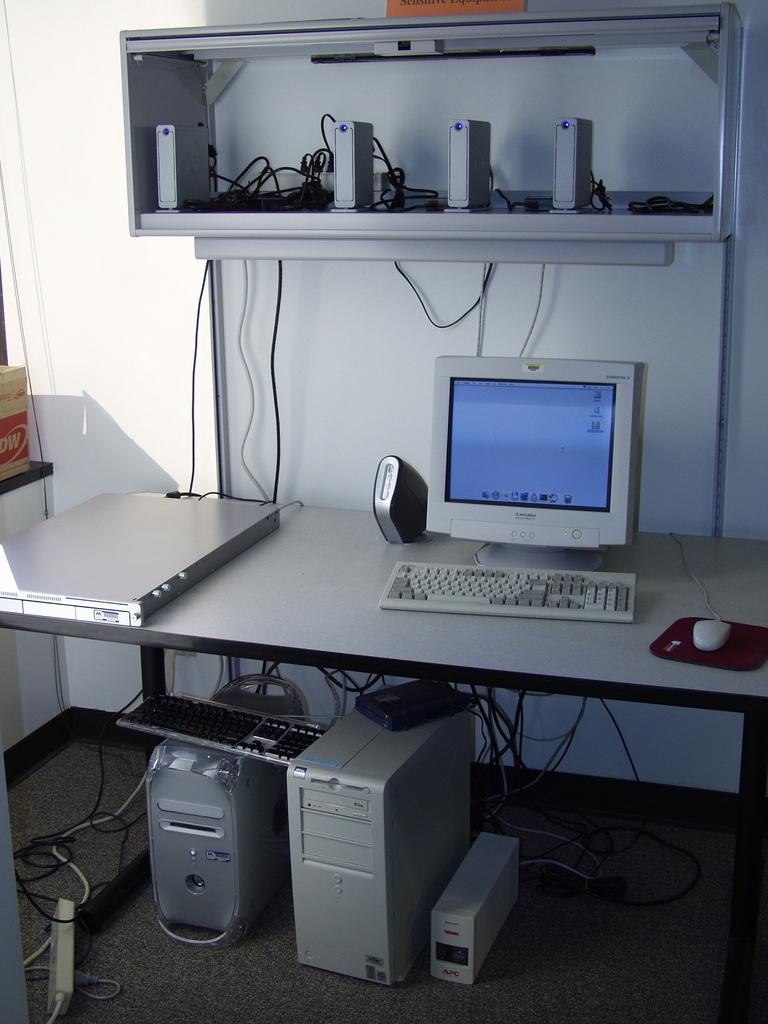Computer-monitor: (422, 349, 647, 570)
